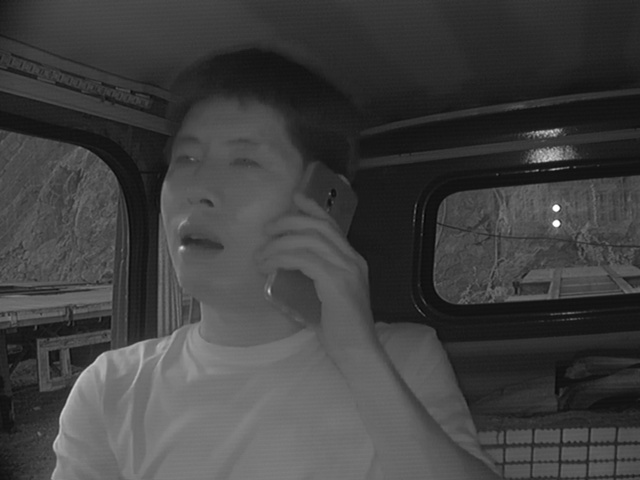hand: (261, 193, 376, 348)
